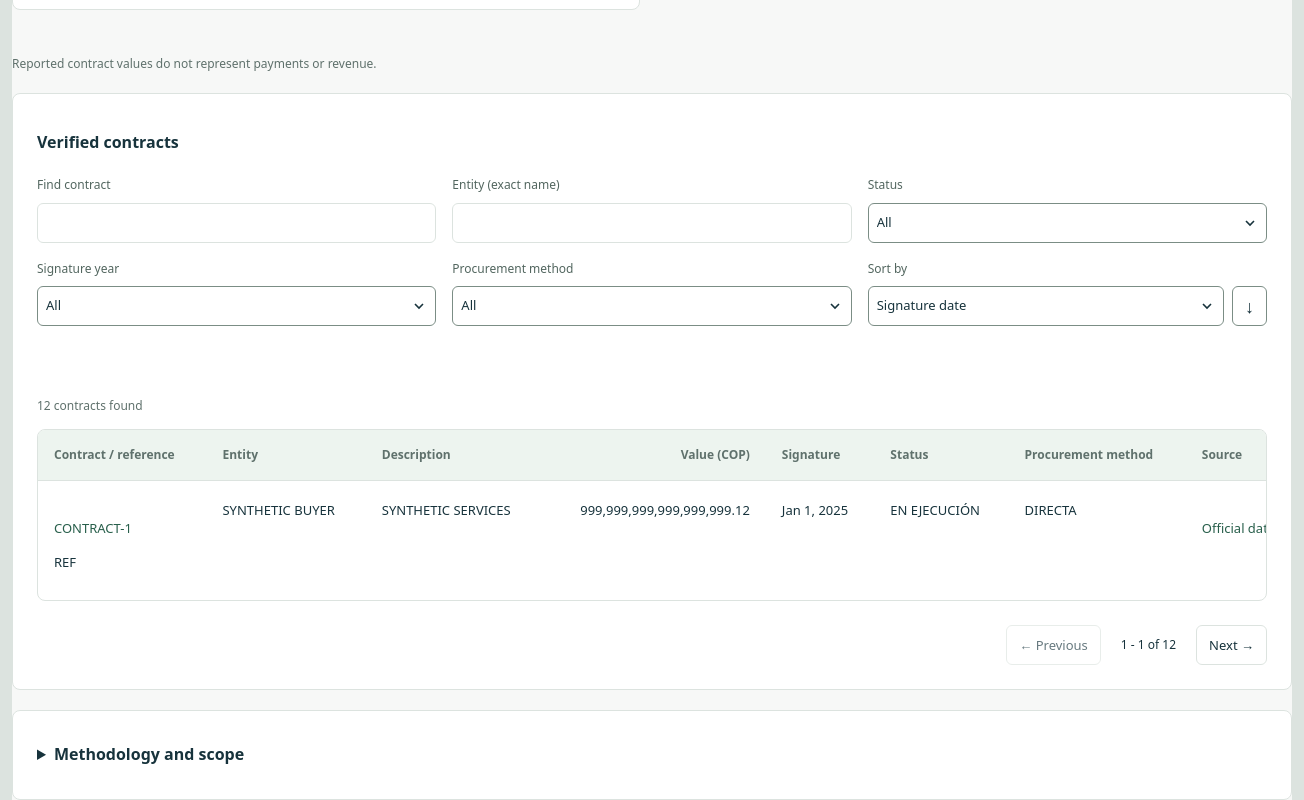
pagination and detail preserve screening snapshot and source evidence
(page scrolled)
Click the button "Next →" at coordinates (1232, 645), box [1196, 625, 1267, 665]
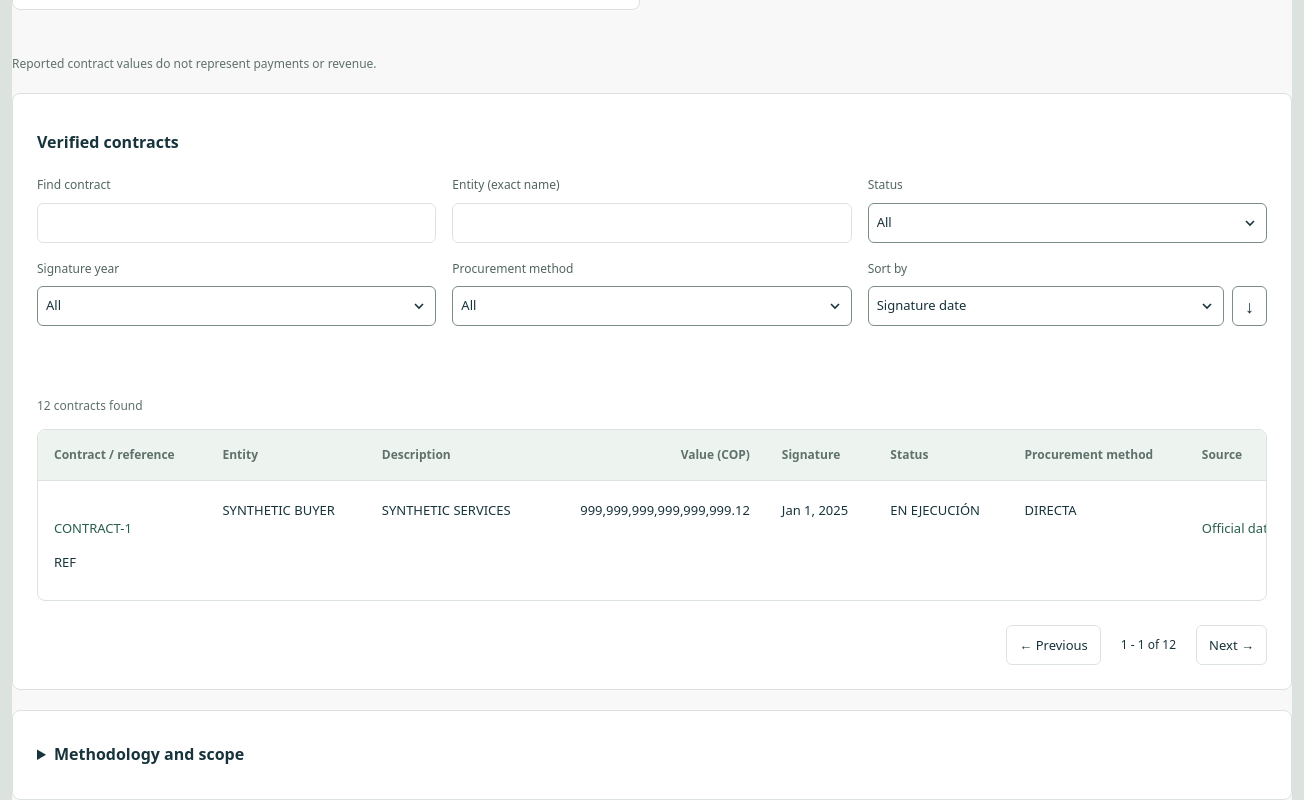
Click the button "CONTRACT-1" at coordinates (93, 529), box [54, 513, 132, 545]
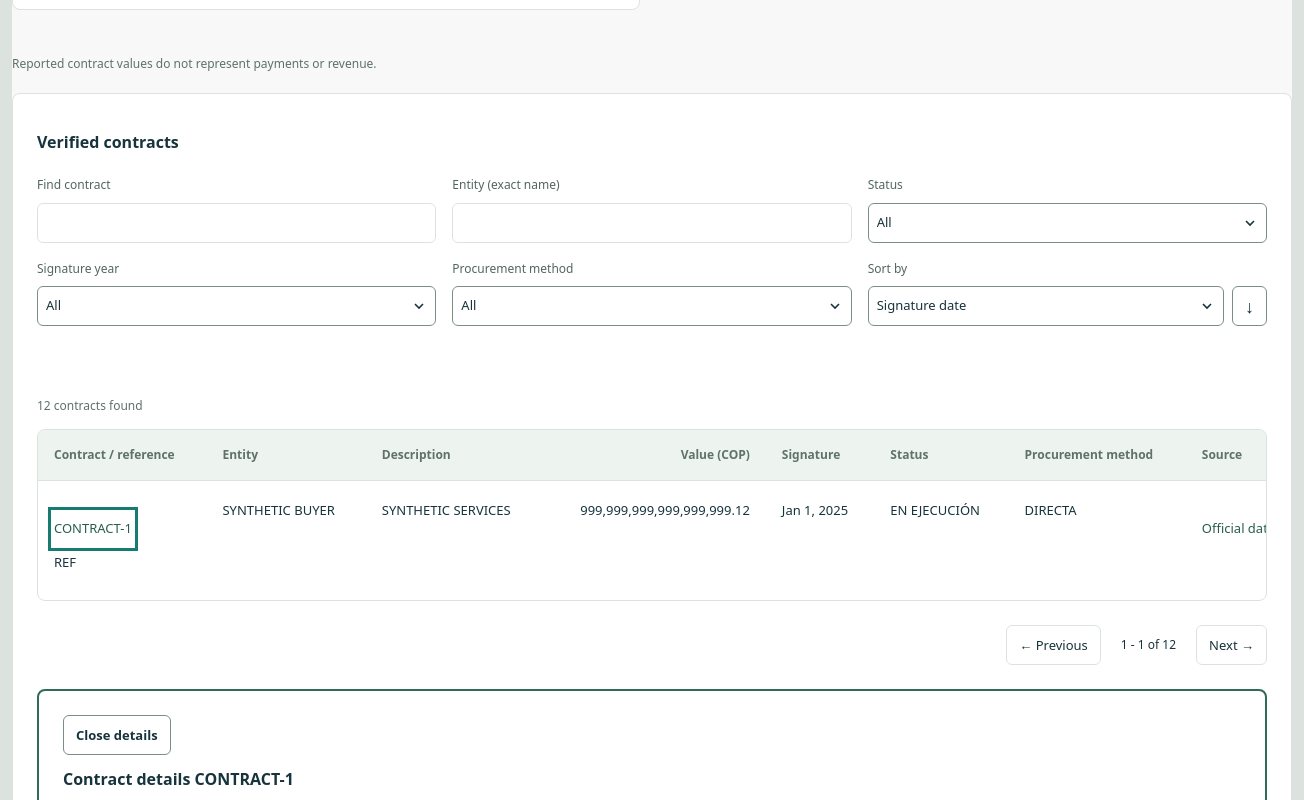
Check: the heading "Contract details CONTRACT-1" is shown, box [63, 768, 294, 790]
Click the button "Close details" at coordinates (117, 735), box [63, 715, 171, 755]
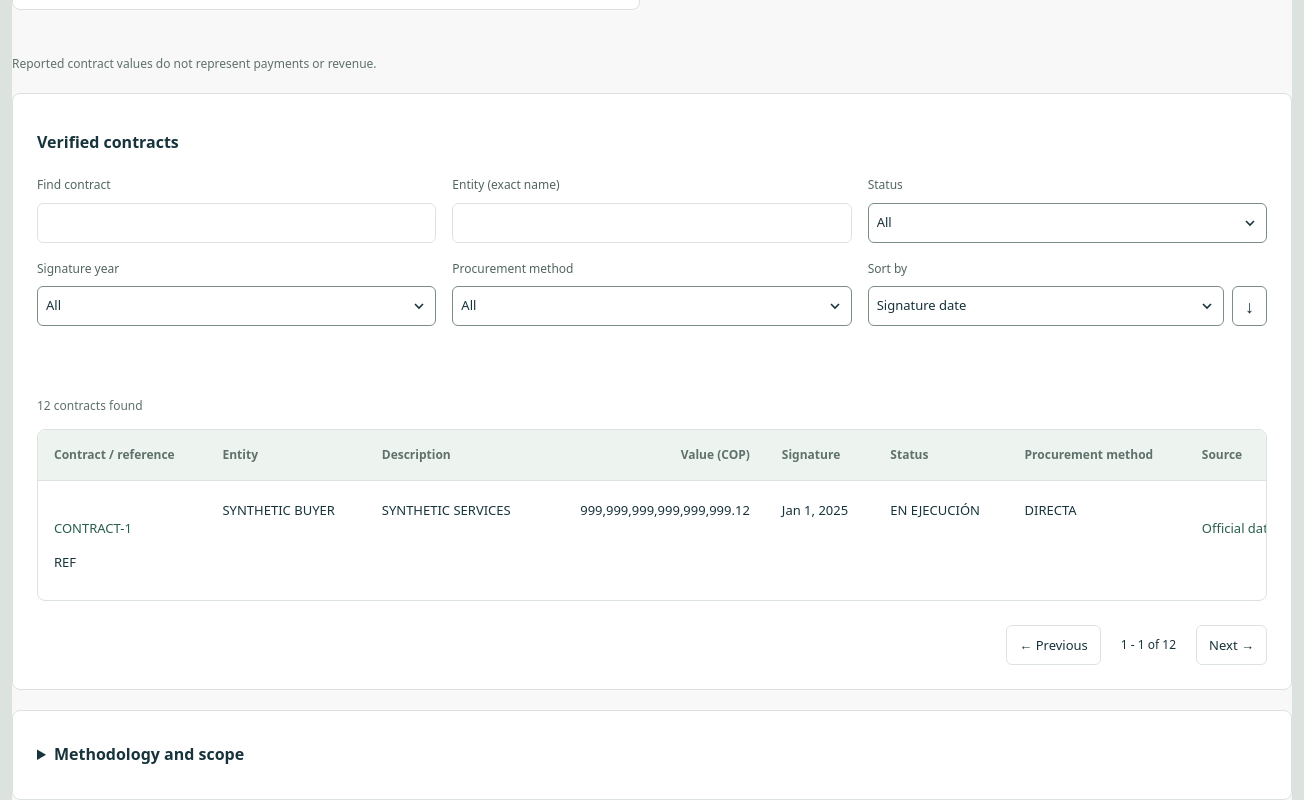
Check: the heading "Contract details" is gone
